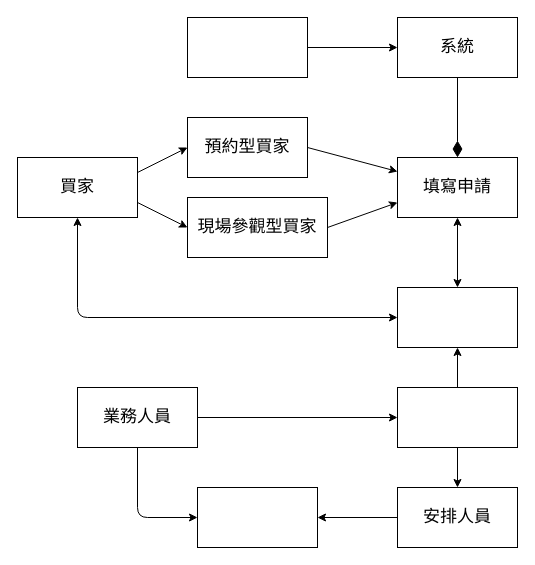
Image size: 535x565. Some labels were removed from this diagram. Here are the shapes that lost their labels. From the top down, the centre of each, then its label:
At (247,47): "代銷公司".
At (457,317): "審核".
At (457,417): "代銷管理者".
At (257,517): "接待人員".
